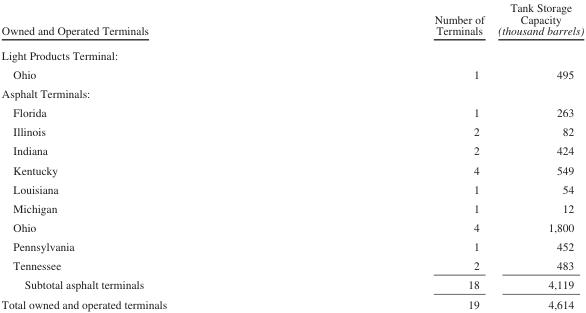table: (0, 0, 583, 310)
table column: (0, 0, 299, 310), (299, 0, 490, 310), (490, 0, 583, 310)
table column header: (0, 0, 583, 42)
table projected row header: (0, 42, 583, 64), (0, 83, 583, 102)
table row: (0, 0, 583, 42), (0, 42, 583, 64), (0, 140, 583, 160), (0, 274, 583, 294), (0, 64, 583, 83), (0, 83, 583, 102), (0, 102, 583, 121), (0, 121, 583, 140), (0, 160, 583, 179), (0, 179, 583, 198), (0, 198, 583, 217), (0, 217, 583, 236), (0, 236, 583, 255), (0, 255, 583, 274), (0, 294, 583, 310)
